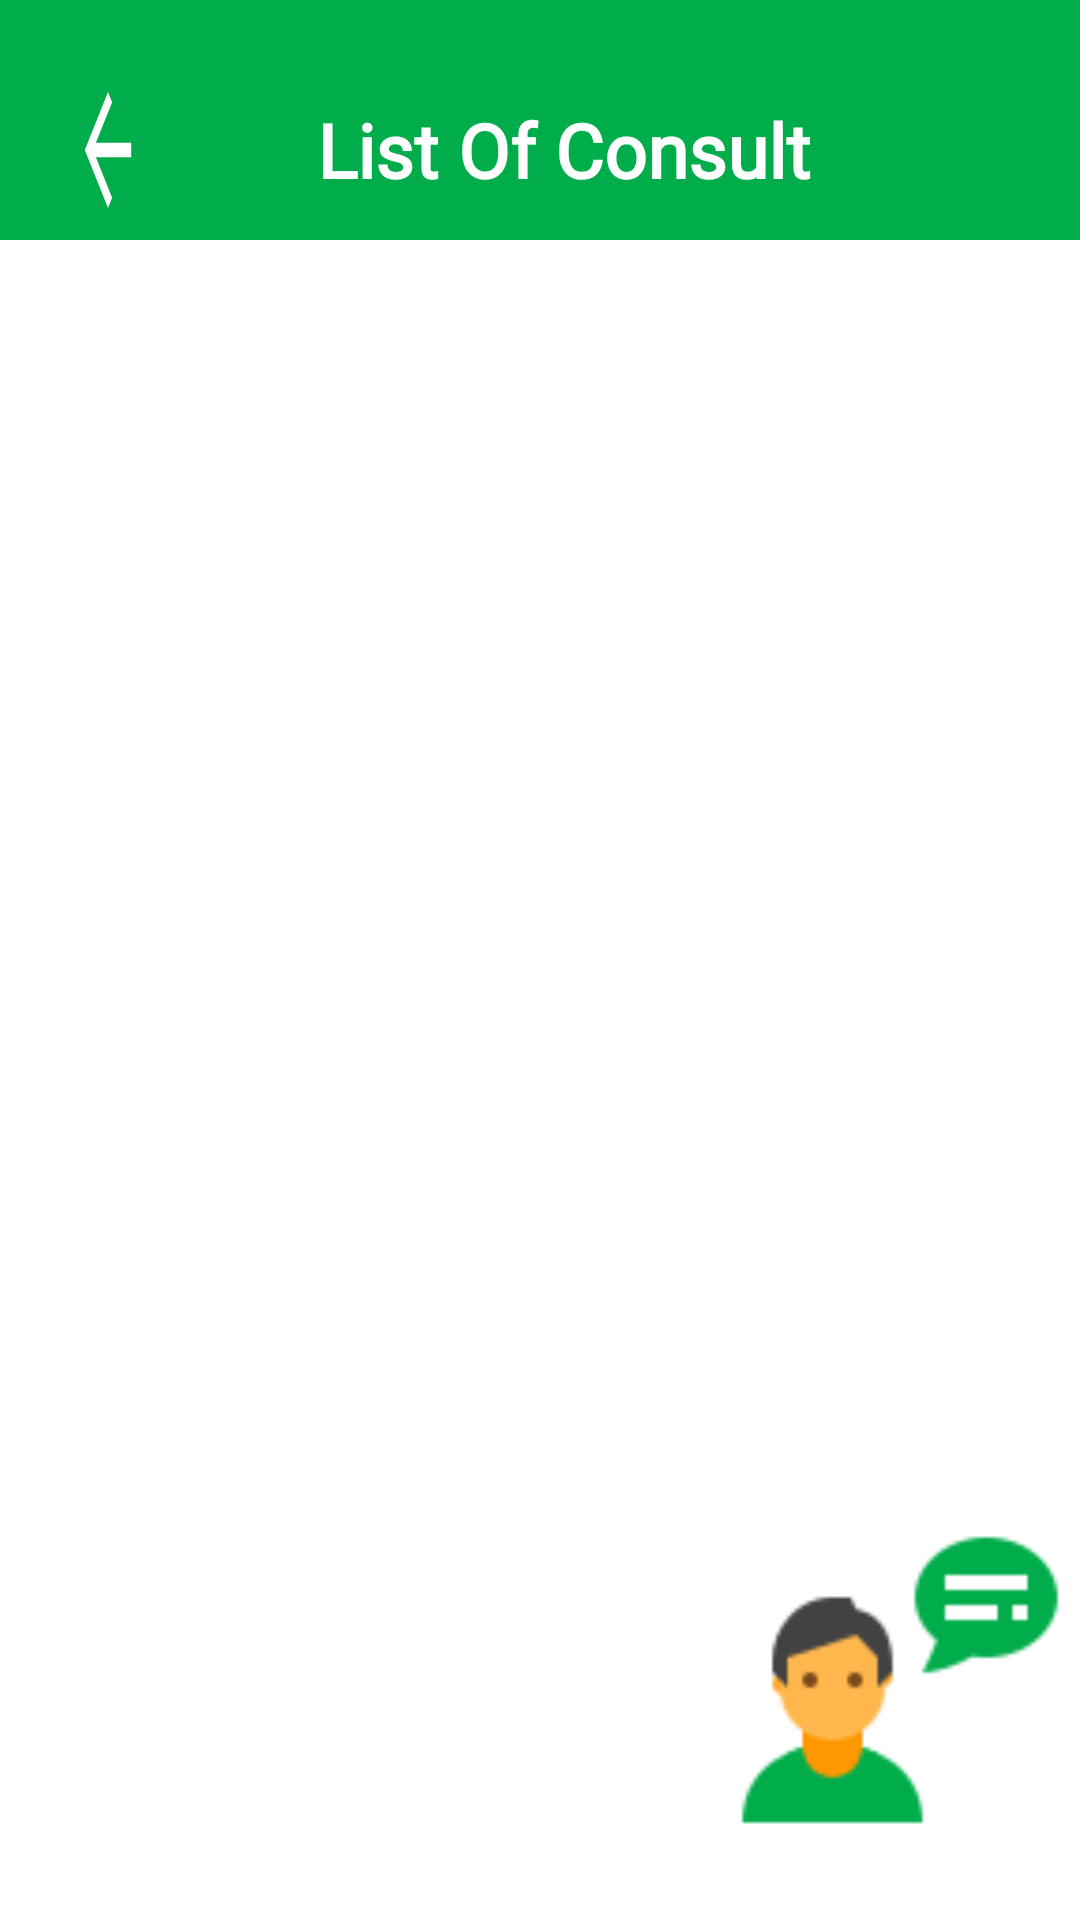

Where icons sit on this 1080x1920 app screen, as (x1, y1, x2, y2):
consultation: (741, 1536, 1059, 1824)
